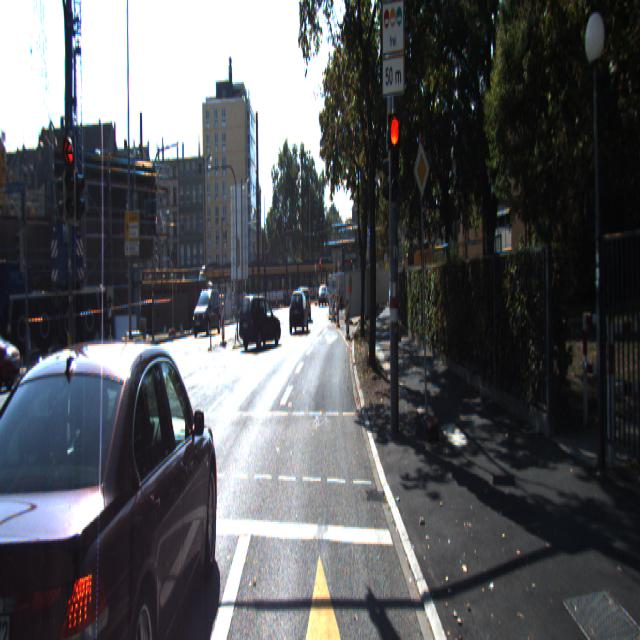Car: (0, 321, 222, 639), (236, 292, 280, 348), (0, 313, 23, 395), (191, 283, 222, 333), (288, 286, 308, 330), (299, 285, 311, 321)
